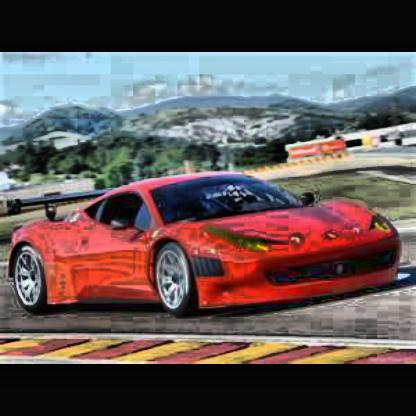Ferrari 458 Italia Coupe 2012: (9, 171, 405, 319)
